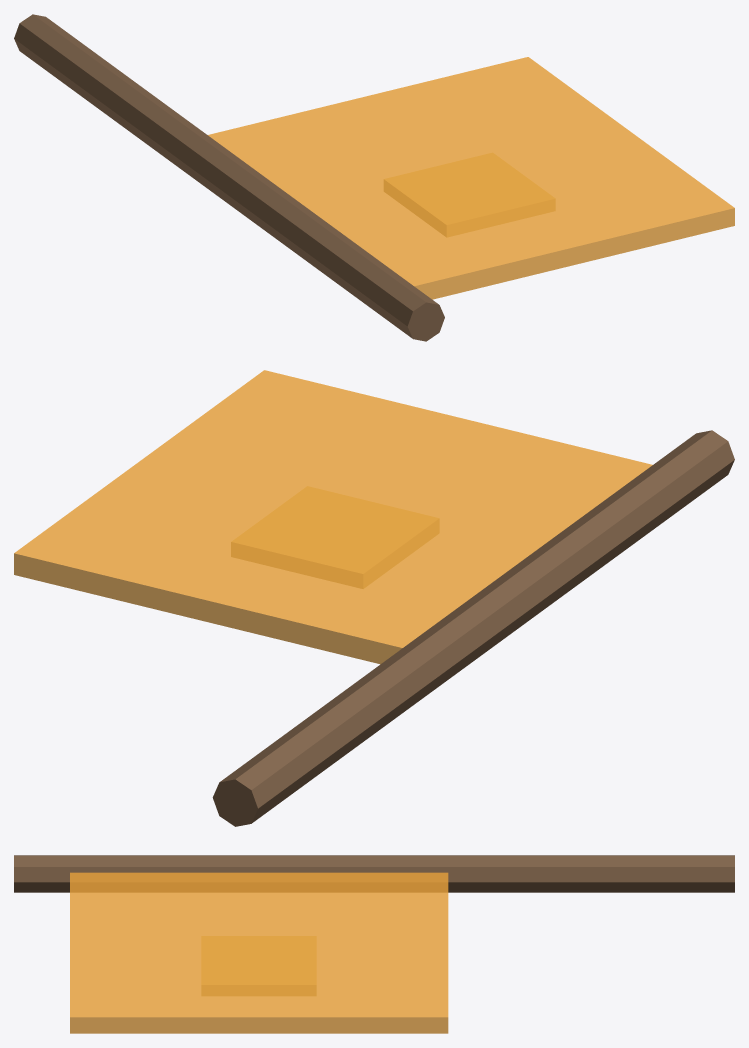
File: order_epochalypse_banner.glb
3 renders of one model, top to bottom at view 1: azimuth 30°, elevation 25°; view 2: azimuth 150°, elevation 25°; view 3: azimuth 270°, elevation 25°, orthographic. The views are drawn at different scales.
Parts seen in each view (by area): view 1: banner_cloth, banner_pole, emblem; view 2: banner_cloth, banner_pole, emblem; view 3: banner_cloth, banner_pole, emblem.
Boxes of the visible parts, box(x1,y1,x2,y2) form: banner_cloth: box(208, 57, 734, 299); banner_pole: box(14, 14, 444, 341); emblem: box(384, 153, 554, 236); banner_cloth: box(14, 370, 652, 664); banner_pole: box(212, 430, 734, 826); emblem: box(231, 487, 438, 588); banner_cloth: box(70, 872, 448, 1033); banner_pole: box(14, 855, 734, 892); emblem: box(202, 936, 315, 995).
Size of the model in its own units: 1.05 by 0.1125 by 2.
